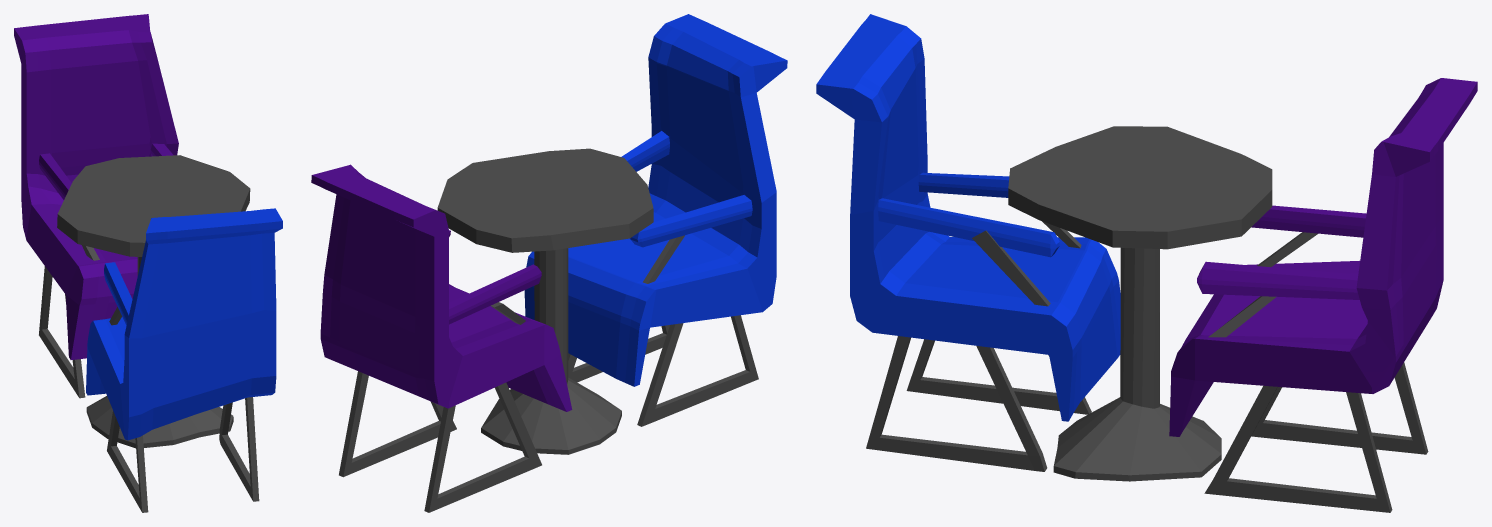
File: chairtableSet.fbx
The picture shows the model from 3 angles, left to right: view 1: azimuth 30°, elevation 25°; view 2: azimuth 150°, elevation 25°; view 3: azimuth 270°, elevation 25°; orthographic projection. The views are drawn at different scales.
Parts seen in each view (by area): view 1: Cube.057; view 2: Cube.057; view 3: Cube.057.
Part boxes in pixels (x1,y1,x2,y2): Cube.057: (14,14,282,512); Cube.057: (311,14,787,512); Cube.057: (816,14,1477,512).
Size of the model in its own units: 35.78 by 42.78 by 69.72.
